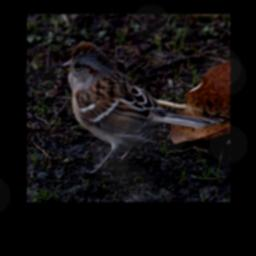Sparrow: (57, 39, 226, 178)
